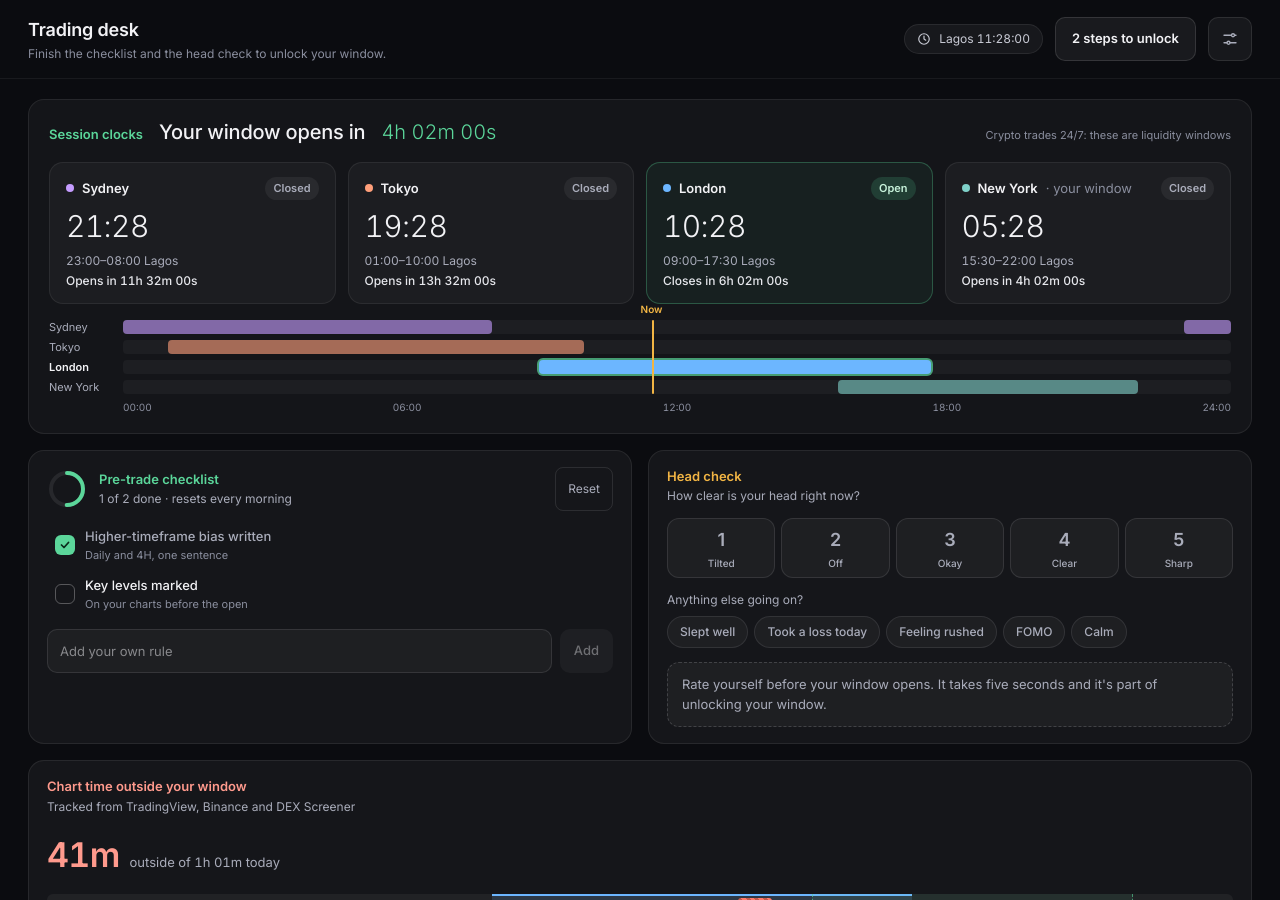
it: TradingScreen › opens desk settings from the header and from chart time
Expected: the text "4h 02m 00s" is shown, 381,118 -> 496,146
Click the button named "Desk settings": (1230, 39) 1208,17 -> 1252,61
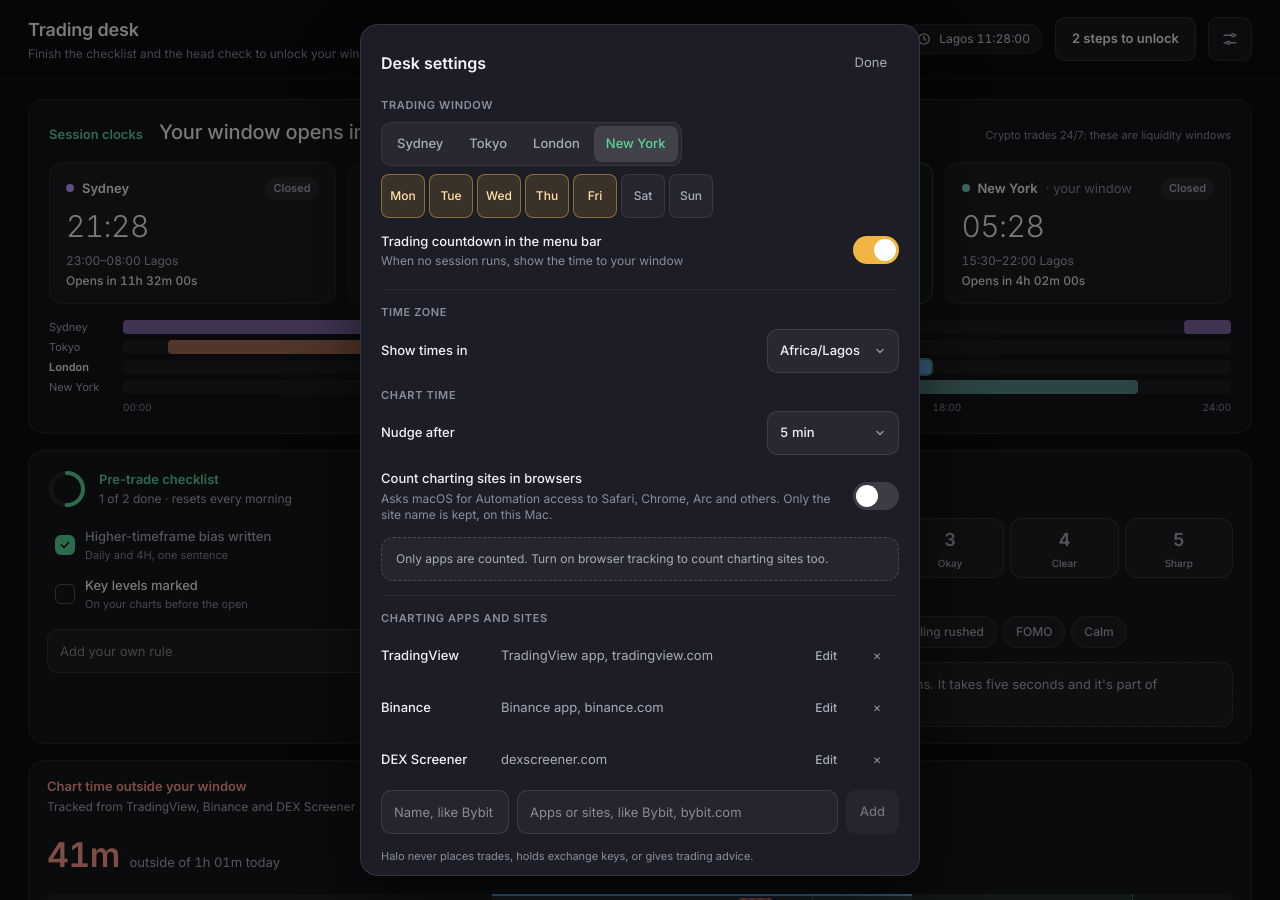
Click the button "Sat": (643, 196) 621,174 -> 665,218
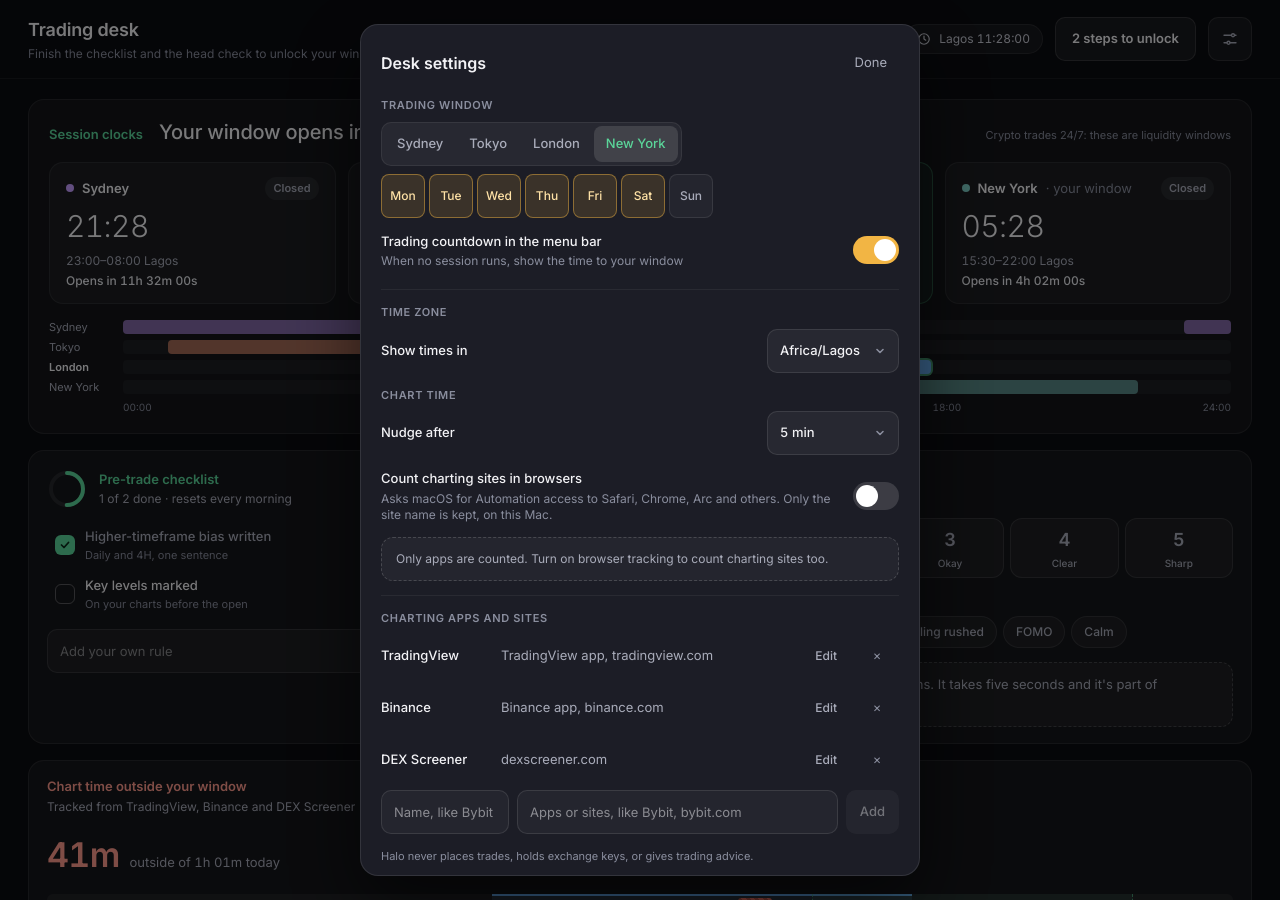
Expected: the text "Only apps are counted" is shown, 396,550 -> 828,566
Click the button "Done": (871, 63) 843,41 -> 899,85
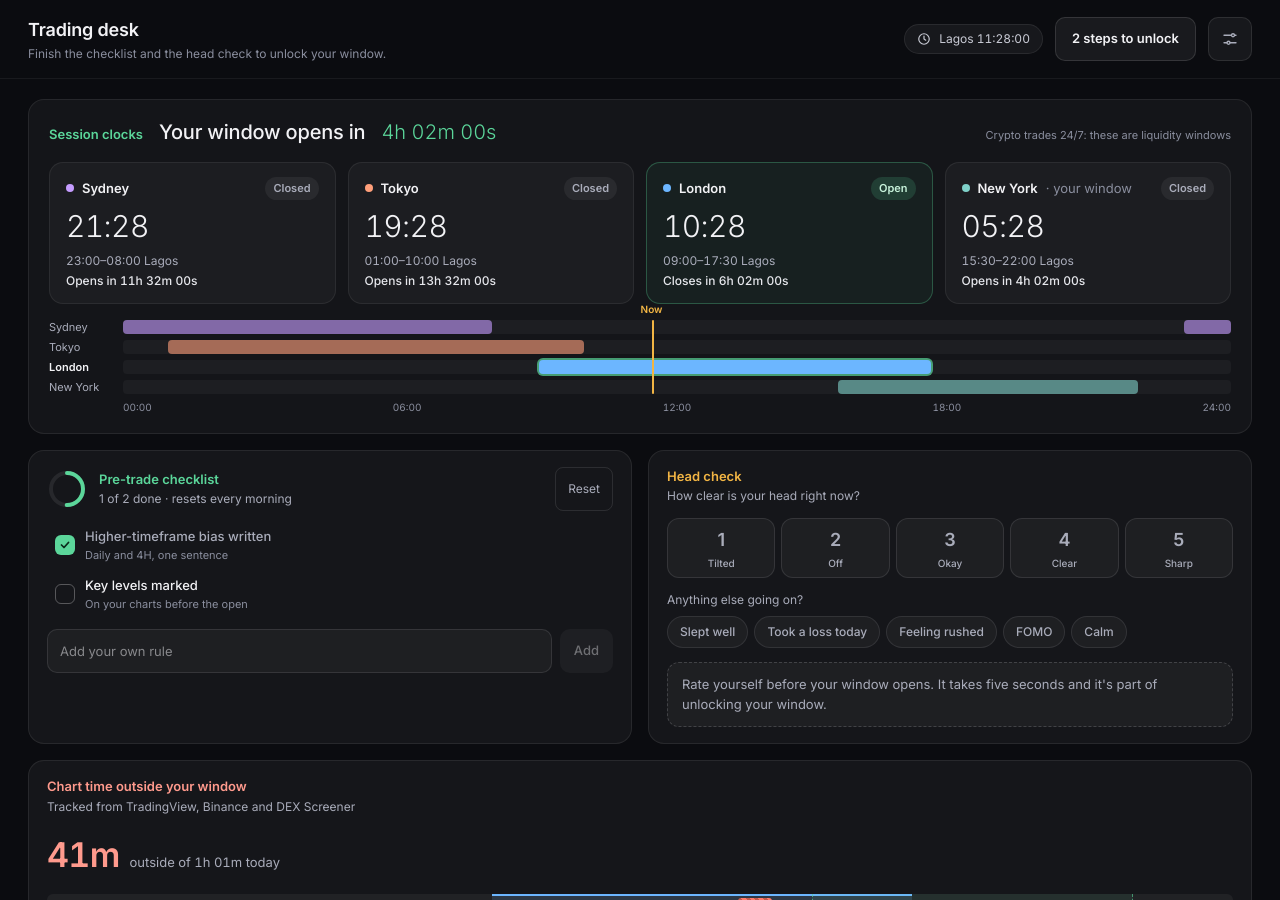
Expected: the dialog is gone
Click the button "Tracked from TradingView, Binance and DEX Screener": (201, 806) 47,798 -> 355,814
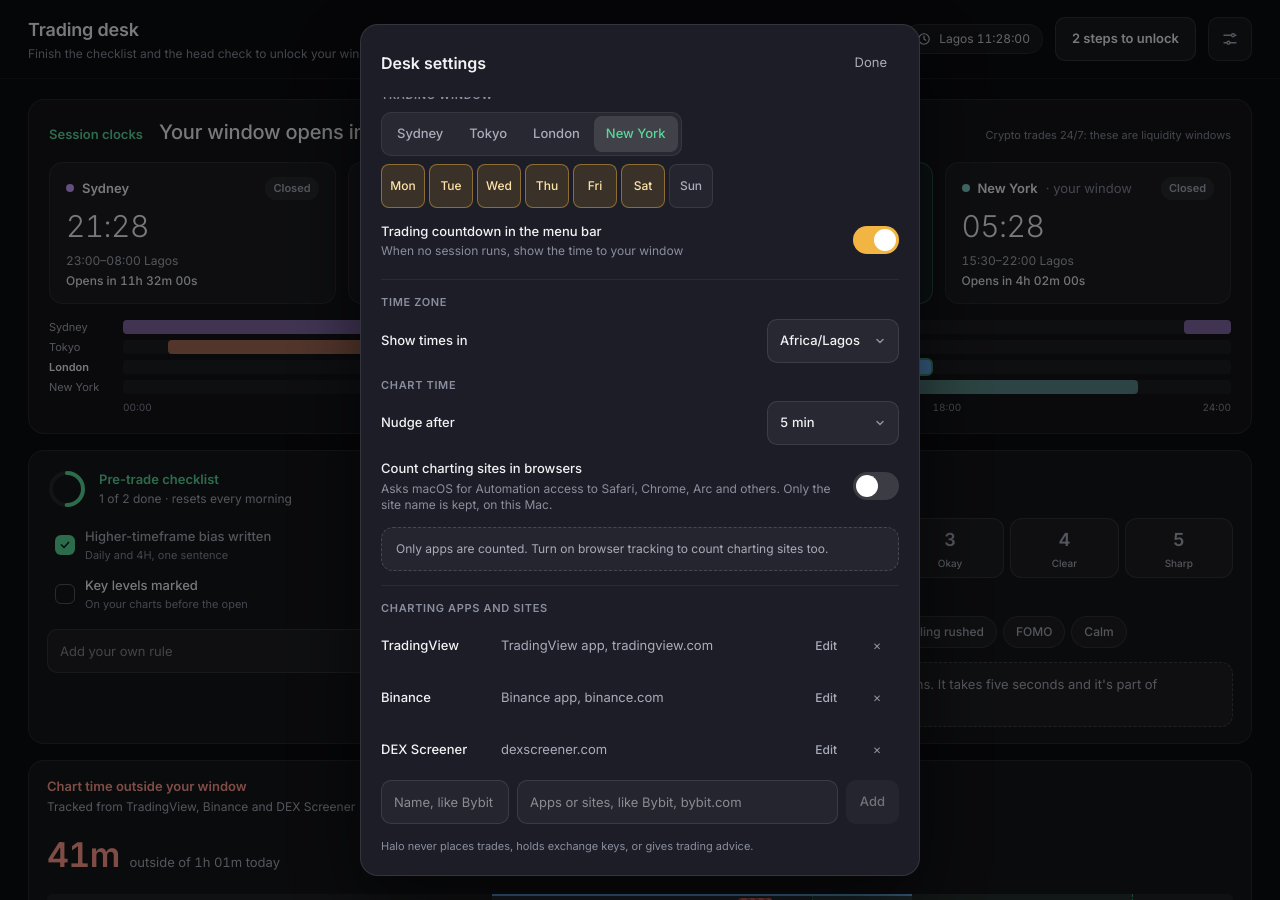
Expected: the dialog "Desk settings" is shown, 360,24 -> 920,876
Expected: the button named "Stop tracking Binance" is shown, 855,676 -> 899,720
